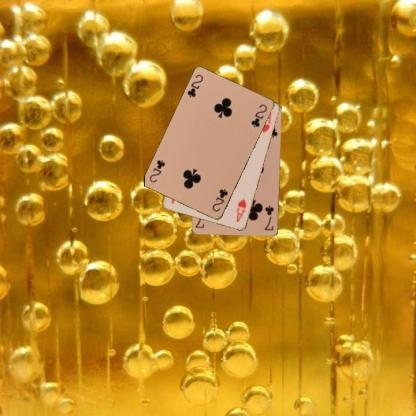2c: (184, 72, 204, 99), (210, 186, 229, 213)
7c: (262, 203, 275, 232)
Ah: (233, 196, 248, 224)
